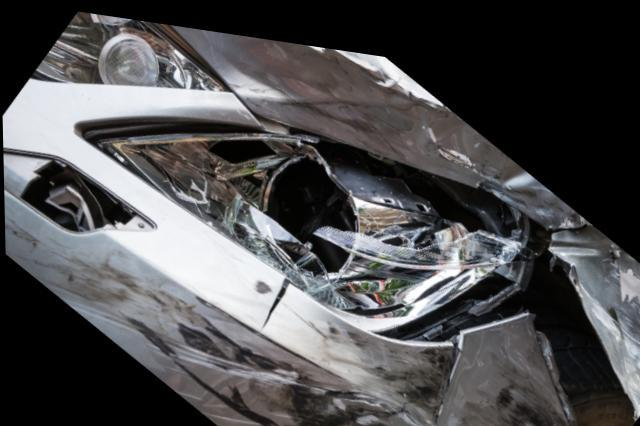crack: (257, 269, 302, 325)
dent: (181, 21, 594, 210), (429, 297, 570, 426), (555, 228, 640, 391)
dislocated part: (2, 92, 630, 426)
lamp broken: (83, 117, 551, 337)
no part: (3, 151, 153, 233)
scratch: (4, 211, 461, 426)
